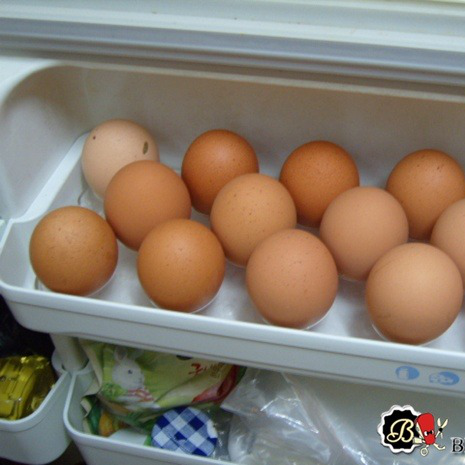egg: (26, 114, 465, 345)
